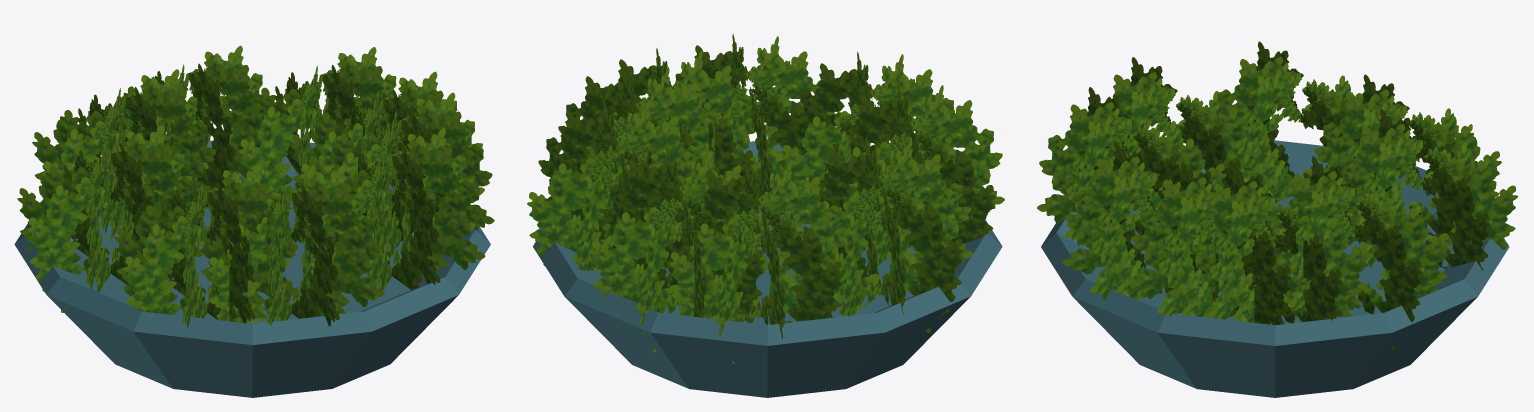
3 views of the same model, side by side, from view 1: azimuth 30°, elevation 25°; view 2: azimuth 150°, elevation 25°; view 3: azimuth 270°, elevation 25° (orthographic).
Parts seen in each view (by area): view 1: a03; view 2: a03; view 3: a03.
Boxes of the visible parts, box(x1,y1,x2,y2) form: a03: box(14, 45, 494, 397); a03: box(527, 34, 1004, 397); a03: box(1037, 41, 1518, 397).
Bounding box in the file's own units: 0.6251 × 0.304 × 0.6207.
2 materials, 1 textured.
